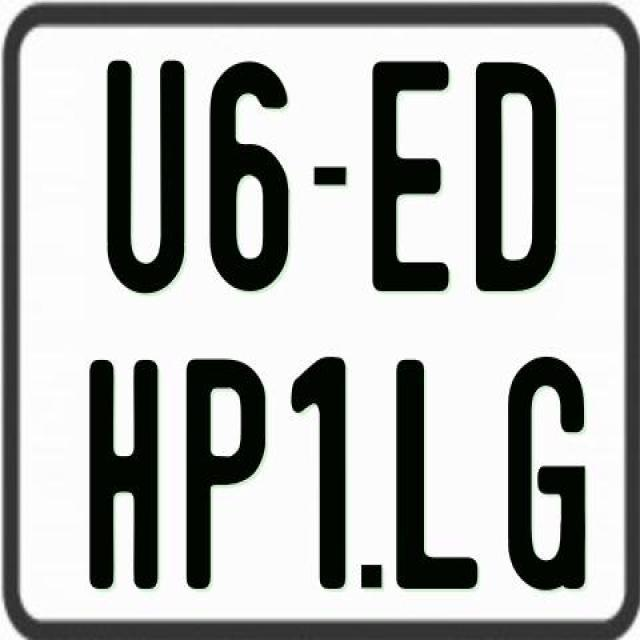1: (290, 357, 350, 590)
6: (206, 61, 290, 293)
D: (476, 62, 562, 298)
E: (369, 61, 451, 301)
G: (506, 356, 588, 594)
H: (88, 357, 156, 587)
L: (394, 356, 482, 590)
P: (186, 357, 272, 596)
U: (105, 61, 183, 300)
